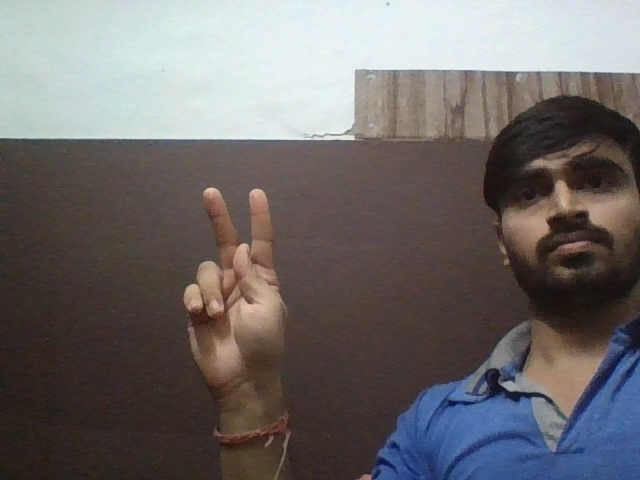K: (171, 181, 301, 390)
